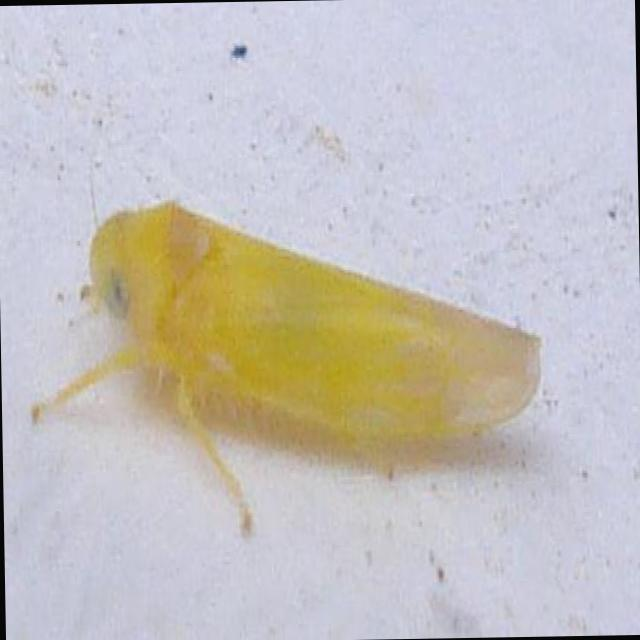green leaf hopper: (32, 202, 539, 531)
